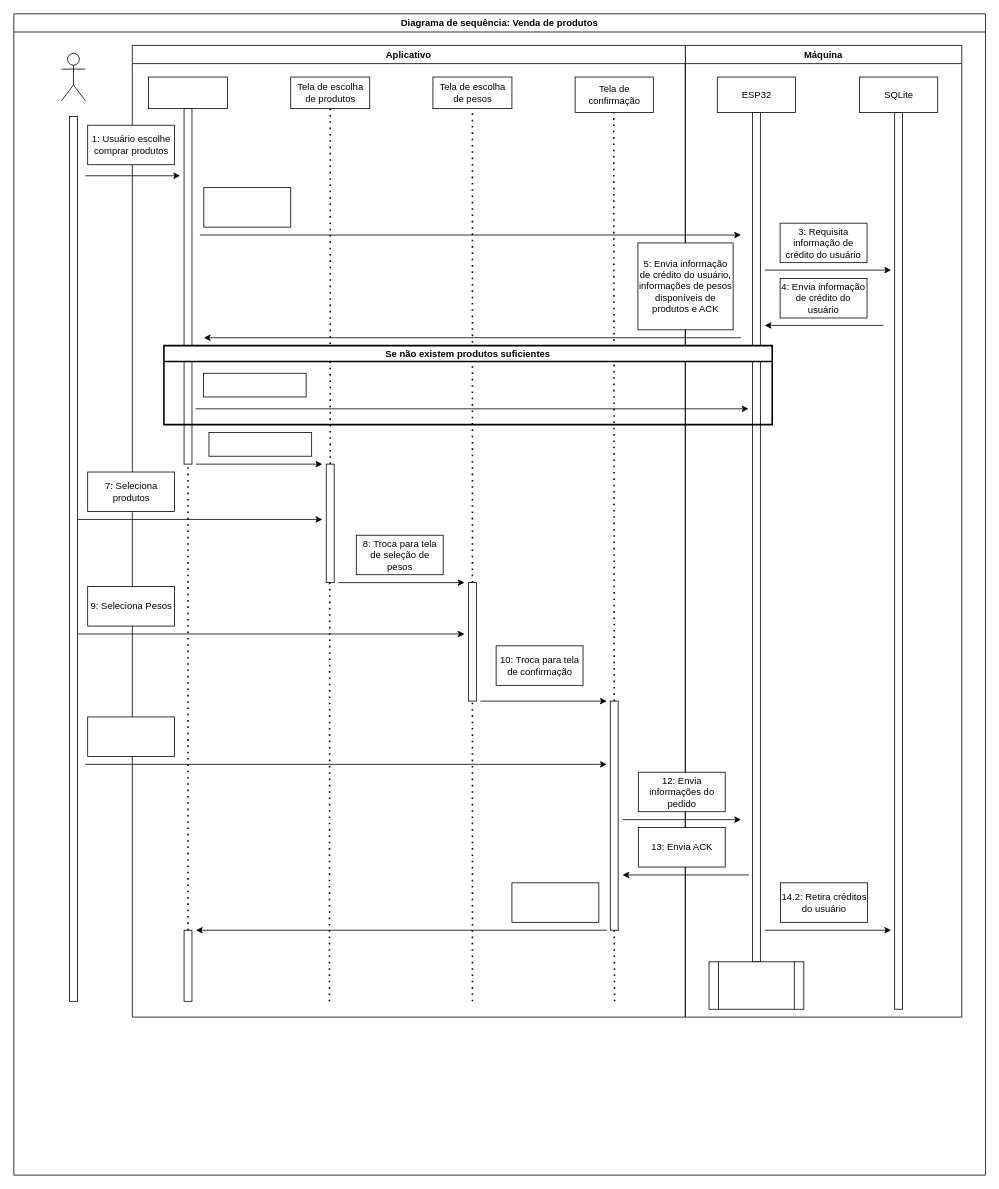
Some shapes in this 999 by 1189 pixel diagram are drawn without their labels. The centre of each missing label's shape, as x and y in pixels:
"11: Confirma pedido" goes at point (131, 736).
"14.1: Troca para tela de conexão" goes at point (555, 902).
"15: Emite produtos sequencialmente" goes at point (756, 985).
"2: Inicia conexão com objetivo de realizar um pedido" goes at point (247, 207).
"6: Fecha conexão e finaliza transação" goes at point (254, 384).
"6: Troca para tela de escolha de produtos" goes at point (260, 444).
"Tela de conexão" goes at point (188, 92).
"Usuário" goes at point (73, 77).
